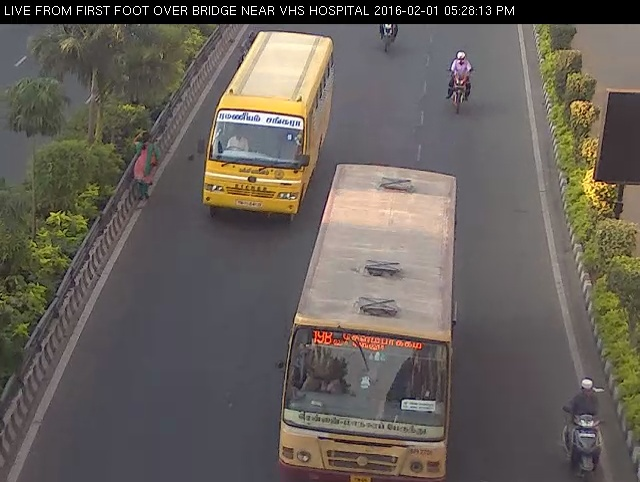Bus: (278, 157, 463, 480), (199, 27, 337, 236)
Person: (555, 367, 614, 481), (438, 45, 484, 119), (127, 121, 162, 211), (234, 31, 268, 78), (371, 16, 407, 55)
